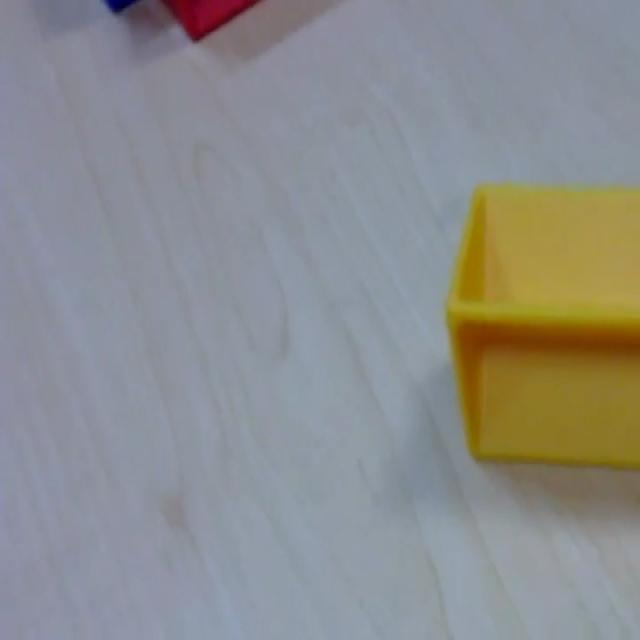yellow_block: (445, 180, 638, 469)
